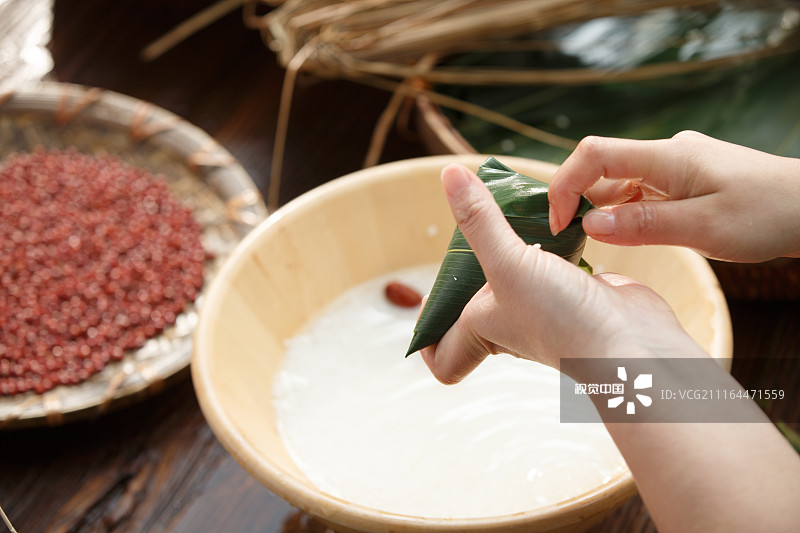no-phone: (399, 160, 687, 397), (526, 109, 800, 273)
